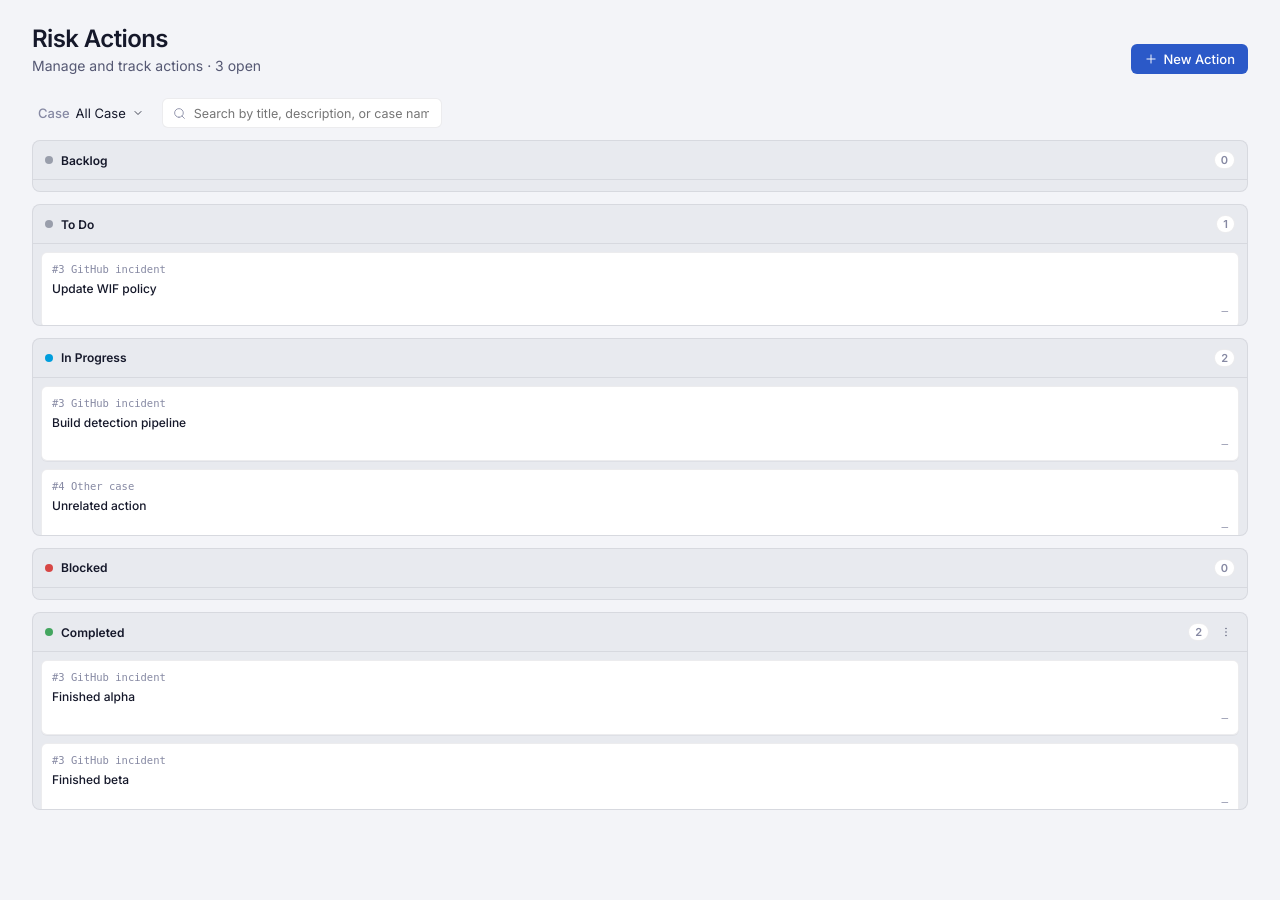
Test: ActionList completed-column bulk archive › archives every action in the completed column after confirmation
The width and height of the screenshot is (1280, 900).
Check: the number of buttons with test id "action-card" is 5, box [41,252,1239,325]; [41,386,1239,461]; [41,469,1239,535]; [41,660,1239,735]; [41,743,1239,809]
Step 1. Click the button with test id "kanban-column-menu-completed" → point(1226, 632), box [1217,623,1235,641]
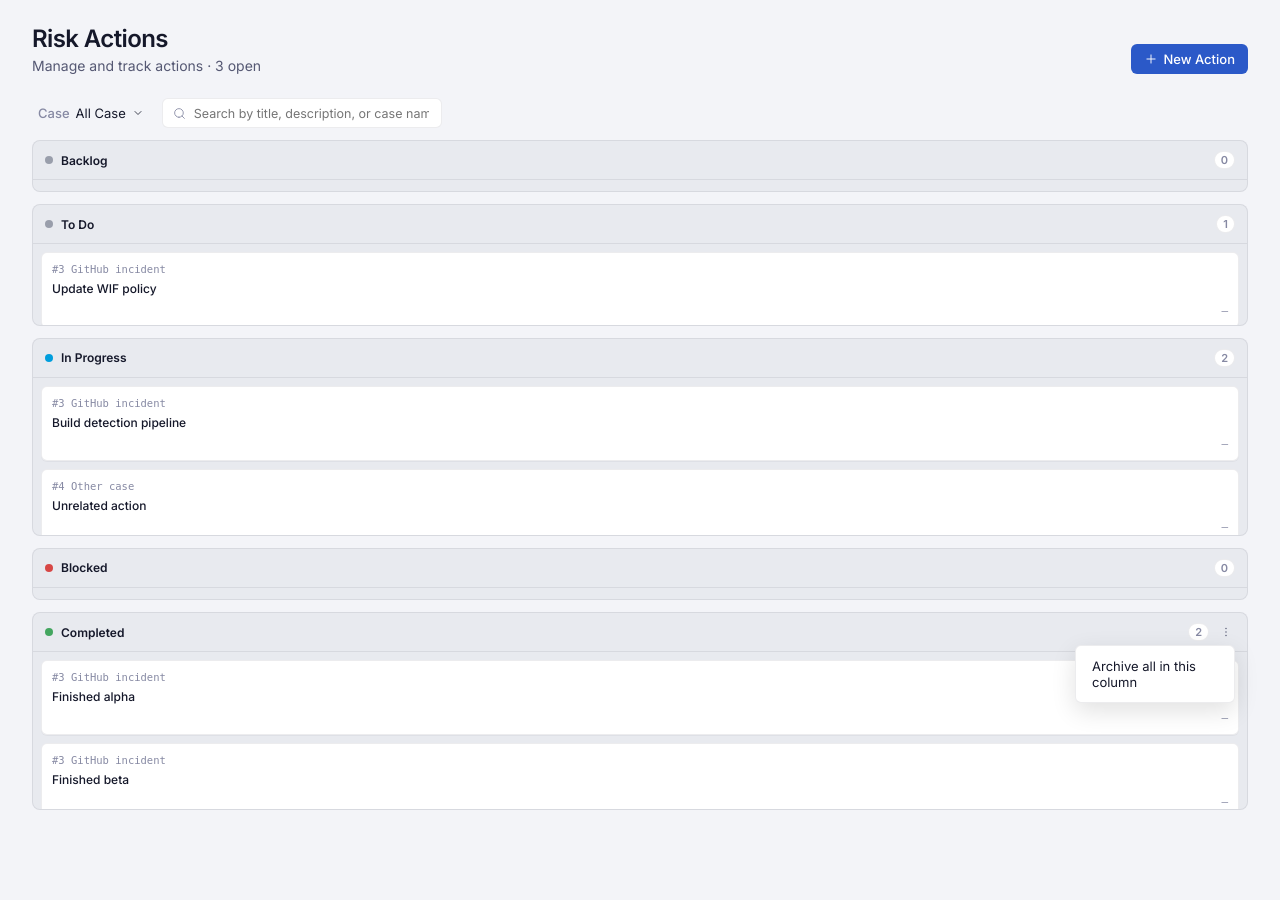
Step 2. Click the menu item with test id "kanban-column-archive-all-completed" → point(1155, 674), box [1080,650,1230,698]
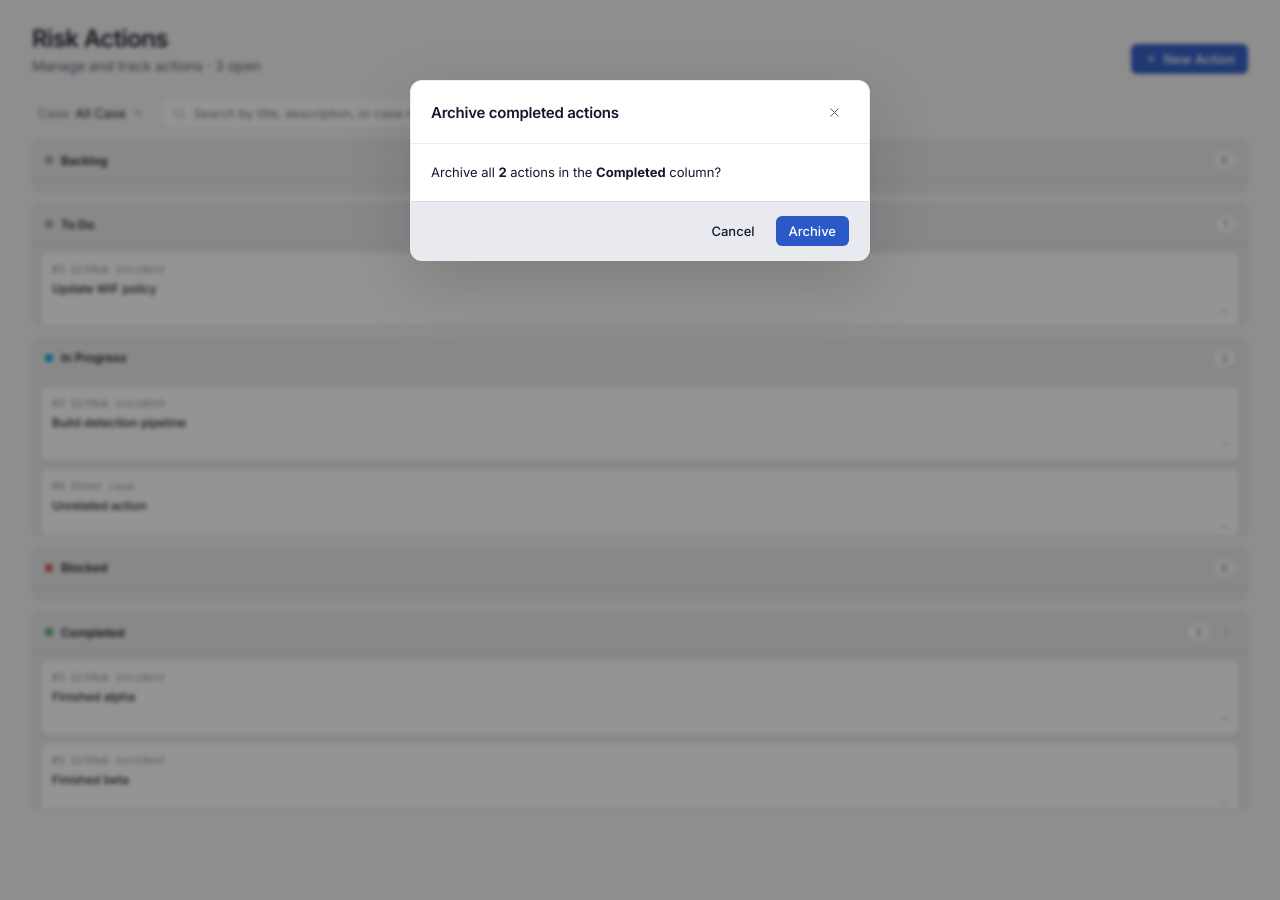
Step 3. Click the button with test id "confirm-bulk-archive-button" → point(812, 231), box [776,216,849,246]
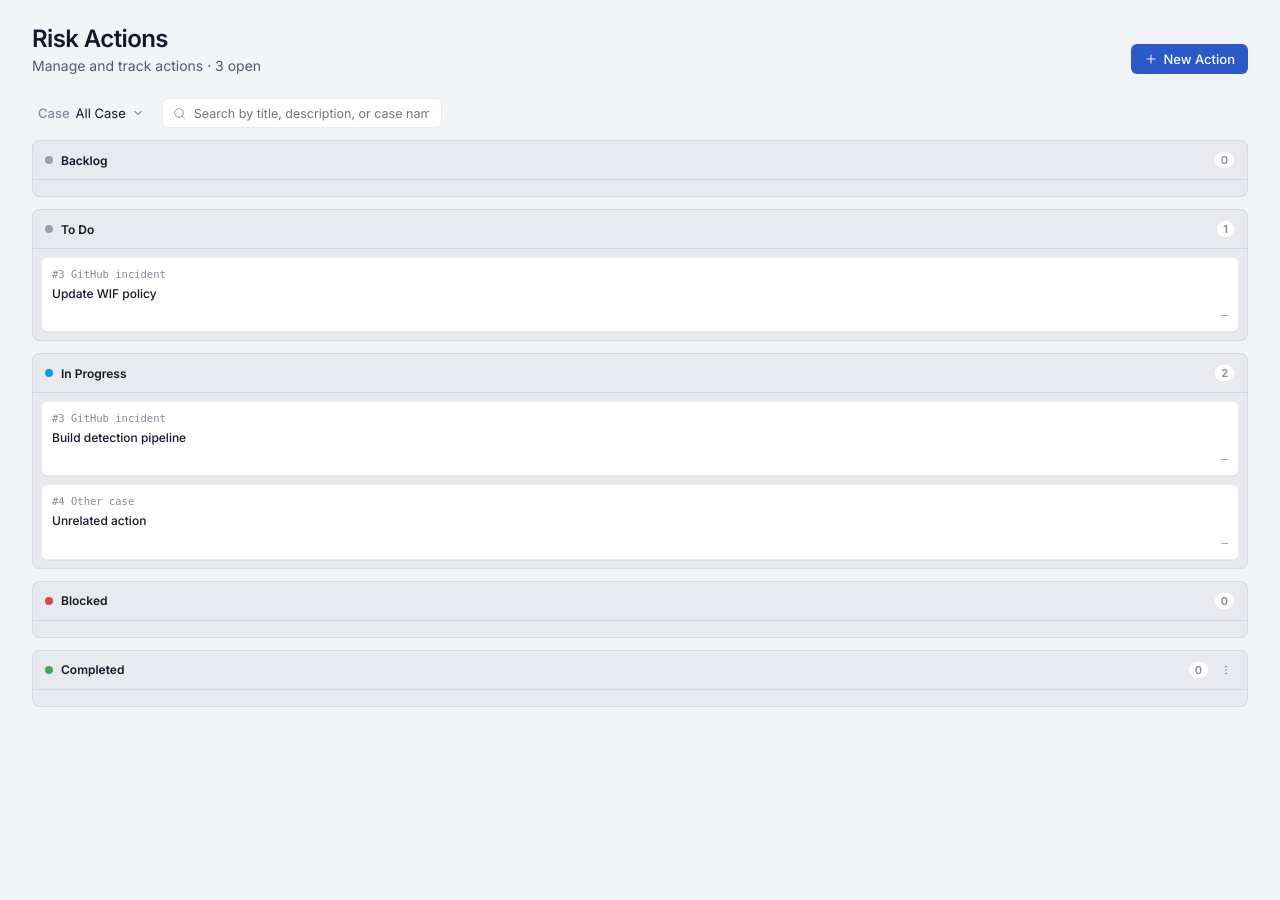
Check: the number of buttons with test id "action-card" is 3, box [41,257,1239,332]; [41,401,1239,476]; [41,484,1239,560]
Check: the button "Finished alpha" is gone
Check: the button "Finished beta" is gone
